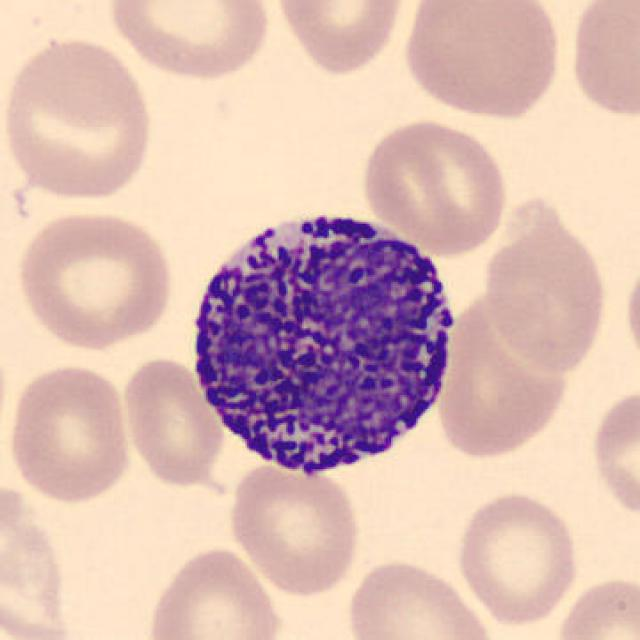Basophil: (176, 192, 471, 490)
RBC: (0, 32, 158, 205), (12, 206, 178, 353), (482, 205, 613, 378), (357, 115, 512, 258), (398, 0, 566, 122), (224, 458, 364, 600), (4, 360, 135, 506), (452, 488, 583, 628), (119, 353, 228, 490), (105, 0, 275, 85), (341, 553, 499, 640), (143, 543, 284, 640), (0, 481, 76, 639), (268, 0, 409, 78), (565, 0, 638, 123), (586, 380, 640, 525), (551, 571, 638, 640), (0, 596, 84, 640), (622, 248, 640, 374)
